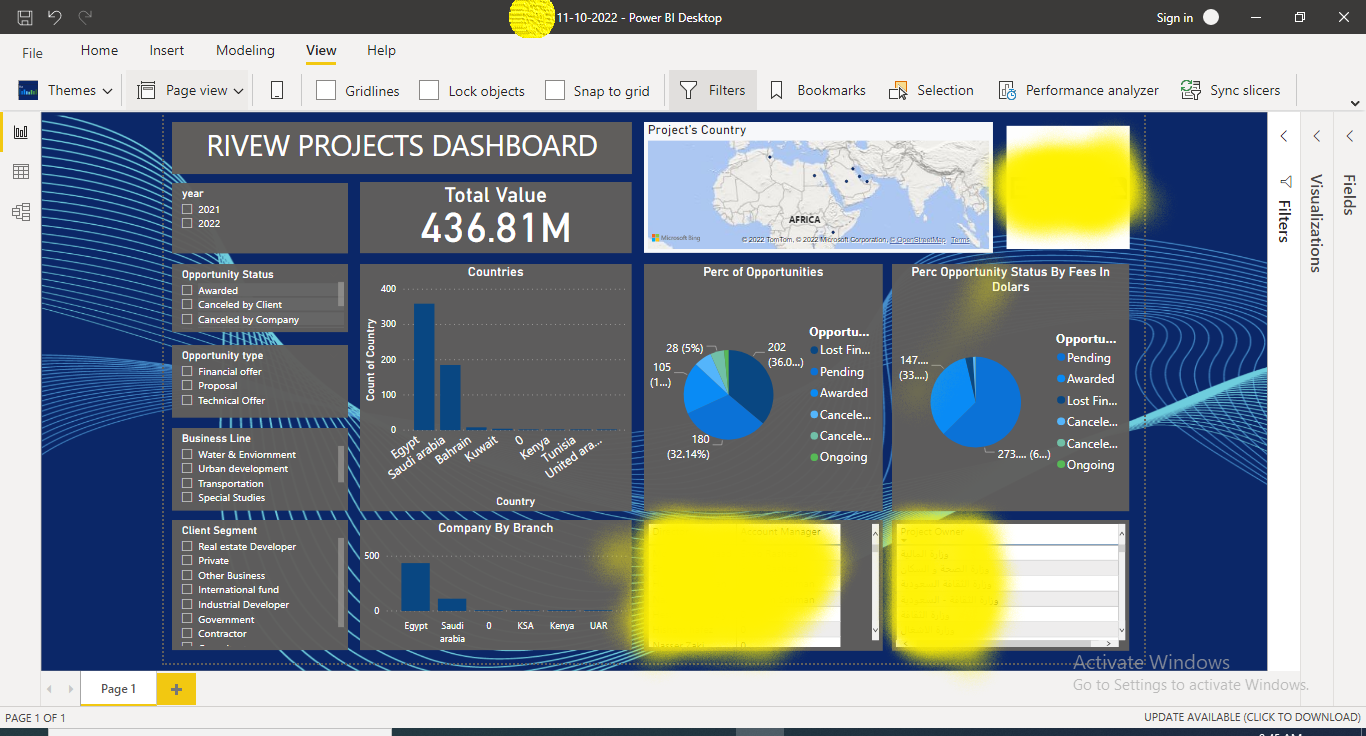

The page's visual inventory and layout, read from the dashboard file:
{"tool":"powerbi","page":{"name":"Page 1","canvas":[1280,720],"ordinal":0},"visuals":[{"type":"slicer","fields":{"Values":["Sheet2 (2).year"]},"box":[10.1,92.4,230.1,92.4],"z":0},{"type":"slicer","fields":{"Values":["Sheet2 (2).Opportunity Status"]},"box":[10.5,198.6,230,88.9],"z":1000},{"type":"slicer","fields":{"Values":["Sheet2 (2).Business Line"]},"box":[10.5,412.9,230,108.5],"z":2000},{"type":"slicer","fields":{"Values":["Sheet2 (2).Client Segment"]},"box":[10.1,533.2,229.9,169.6],"z":3000},{"type":"card","title":"Total Value","fields":{"Values":["Sheet2 (2).Fees in USD"]},"box":[255.8,92,355,93.4],"z":4000},{"type":"clusteredColumnChart","title":"Countries","fields":{"Category":["Sheet2 (2).Country","Sheet2 (2).Project Location"],"Y":["Sheet2 (2).Country"]},"box":[255.8,198.3,355,323.4],"z":5000},{"type":"clusteredColumnChart","title":"Company By Branch","fields":{"Category":["Sheet2 (2).EGEC Company"],"Y":["Sheet2 (2).EGEC Company"]},"box":[255.8,533.2,355,169.6],"z":6000},{"type":"pieChart","title":"Perc  of Opportunities","fields":{"Category":["Sheet2 (2).Opportunity Status"],"Y":["Sheet2 (2).Opportunity Status"]},"box":[626.6,198.3,311.9,323.4],"z":7000},{"type":"pieChart","title":"Perc Opportunity Status By Fees In Dolars","fields":{"Category":["Sheet2 (2).Opportunity Status"],"Y":["Sheet2 (2).Fees in USD"]},"box":[951.4,198.3,310.4,323.4],"z":8000},{"type":"tableEx","fields":{"Values":["Sheet2 (2).Director","Sheet2 (2).Account Manager"]},"box":[626.6,533.2,311.9,171],"z":9000},{"type":"tableEx","fields":{"Values":["Sheet2 (2).Project Owner"]},"box":[951.4,533.2,310.4,171],"z":10000},{"type":"textbox","box":[10.1,12.9,600.7,67.5],"z":11000},{"type":"map","title":"Project''s Country","fields":{"Category":["Sheet2 (2).Country"]},"box":[626.6,12.9,455.6,171],"z":12000},{"type":"image","box":[1082.2,12.9,198.3,171],"z":13000},{"type":"slicer","fields":{"Values":["Sheet2 (2).Opportunity type"]},"box":[11,304.2,229.8,95],"z":14000}]}

Visuals, with their boxes on the page's 1280x720 design canvas (x1, y1, x2, y2). These are canvas units, not pixel positions in the 1366x736 screenshot, which may show the page scaled, cropped or inside an application window:
slicer - Sheet2 (2).year: detection(10, 92, 240, 185)
slicer - Sheet2 (2).Opportunity Status: detection(10, 199, 240, 288)
slicer - Sheet2 (2).Business Line: detection(10, 413, 240, 521)
slicer - Sheet2 (2).Client Segment: detection(10, 533, 240, 703)
"Total Value" card: detection(256, 92, 611, 185)
"Countries" clusteredColumnChart: detection(256, 198, 611, 522)
"Company By Branch" clusteredColumnChart: detection(256, 533, 611, 703)
"Perc  of Opportunities" pieChart: detection(627, 198, 938, 522)
"Perc Opportunity Status By Fees In Dolars" pieChart: detection(951, 198, 1262, 522)
tableEx - Sheet2 (2).Director x Sheet2 (2).Account Manager: detection(627, 533, 938, 704)
tableEx - Sheet2 (2).Project Owner: detection(951, 533, 1262, 704)
textbox: detection(10, 13, 611, 80)
"Project''s Country" map: detection(627, 13, 1082, 184)
image: detection(1082, 13, 1280, 184)
slicer - Sheet2 (2).Opportunity type: detection(11, 304, 241, 399)
